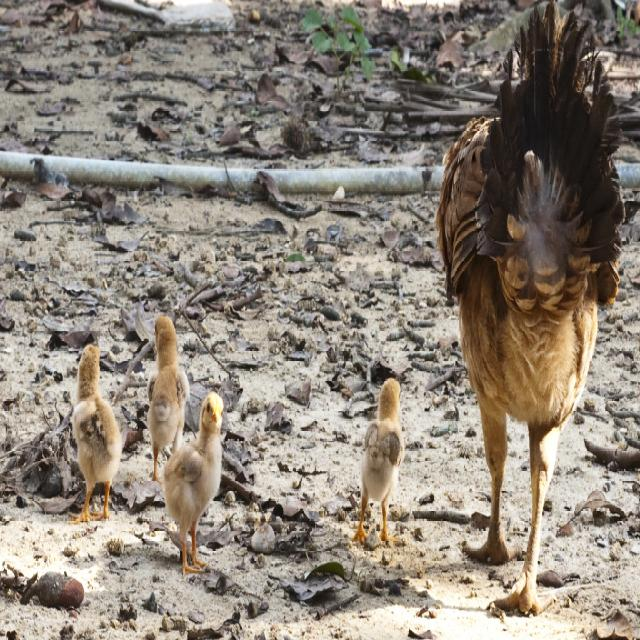Chicken: (433, 41, 632, 590)
